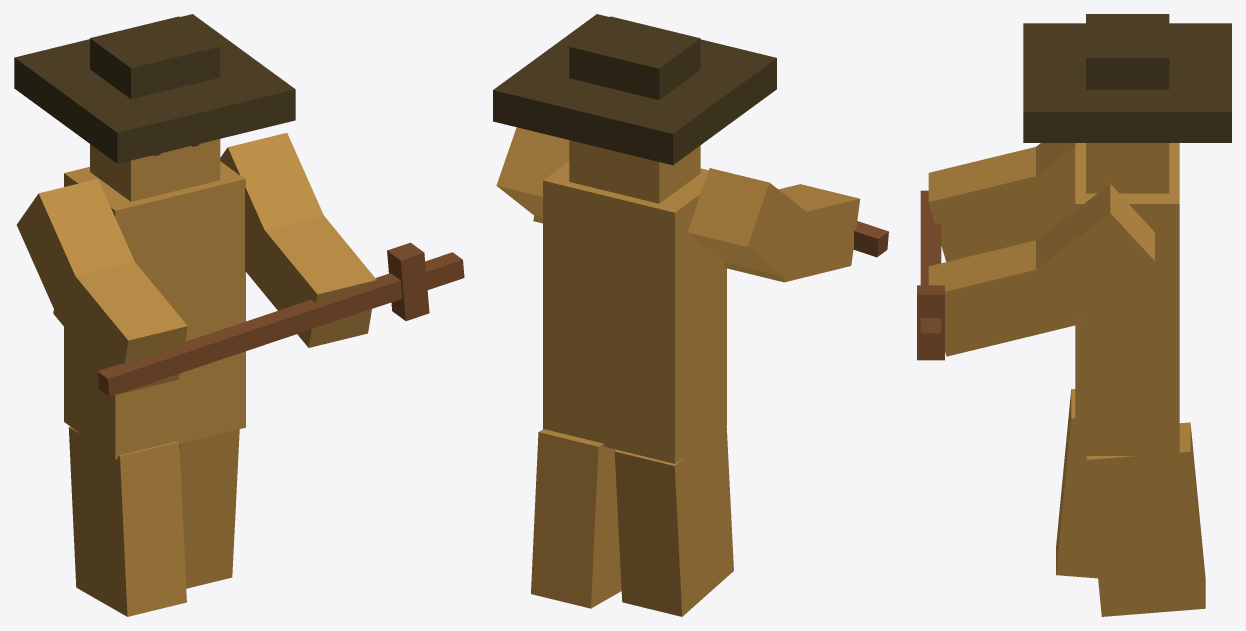
The model's file is MagicCollector.fbx.
3 renders of one model, left to right at view 1: azimuth 30°, elevation 25°; view 2: azimuth 150°, elevation 25°; view 3: azimuth 270°, elevation 25°, orthographic.
Parts seen in each view (by area): view 1: Cube.001, Cube.011, Cube.007, Cube.012; view 2: Cube.001, Cube.011, Cube.012, Cube.007; view 3: Cube.001, Cube.011, Cube.012, Cube.007.
Part boxes in pixels (x1,y1,x2,y2): Cube.001: (16,133,376,616); Cube.011: (14,14,295,163); Cube.007: (97,242,464,396); Cube.012: (90,16,220,99); Cube.001: (496,127,860,616); Cube.011: (493,14,776,165); Cube.012: (569,16,700,99); Cube.007: (853,221,888,257); Cube.001: (928,143,1205,616); Cube.011: (1023,23,1231,142); Cube.012: (1086,14,1169,89); Cube.007: (917,190,944,360).
Size of the model in its own units: 120 by 174 by 90.54.
